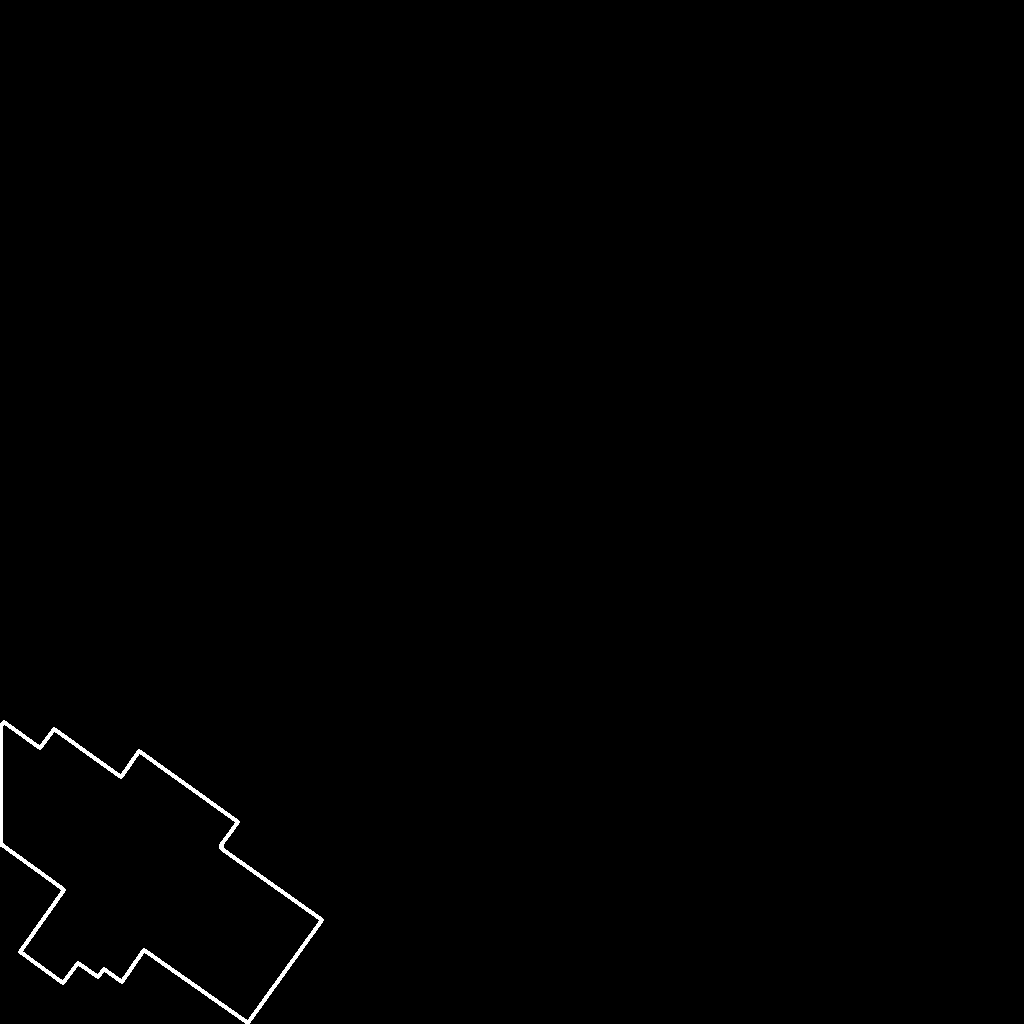building: (0, 722, 323, 1024)
